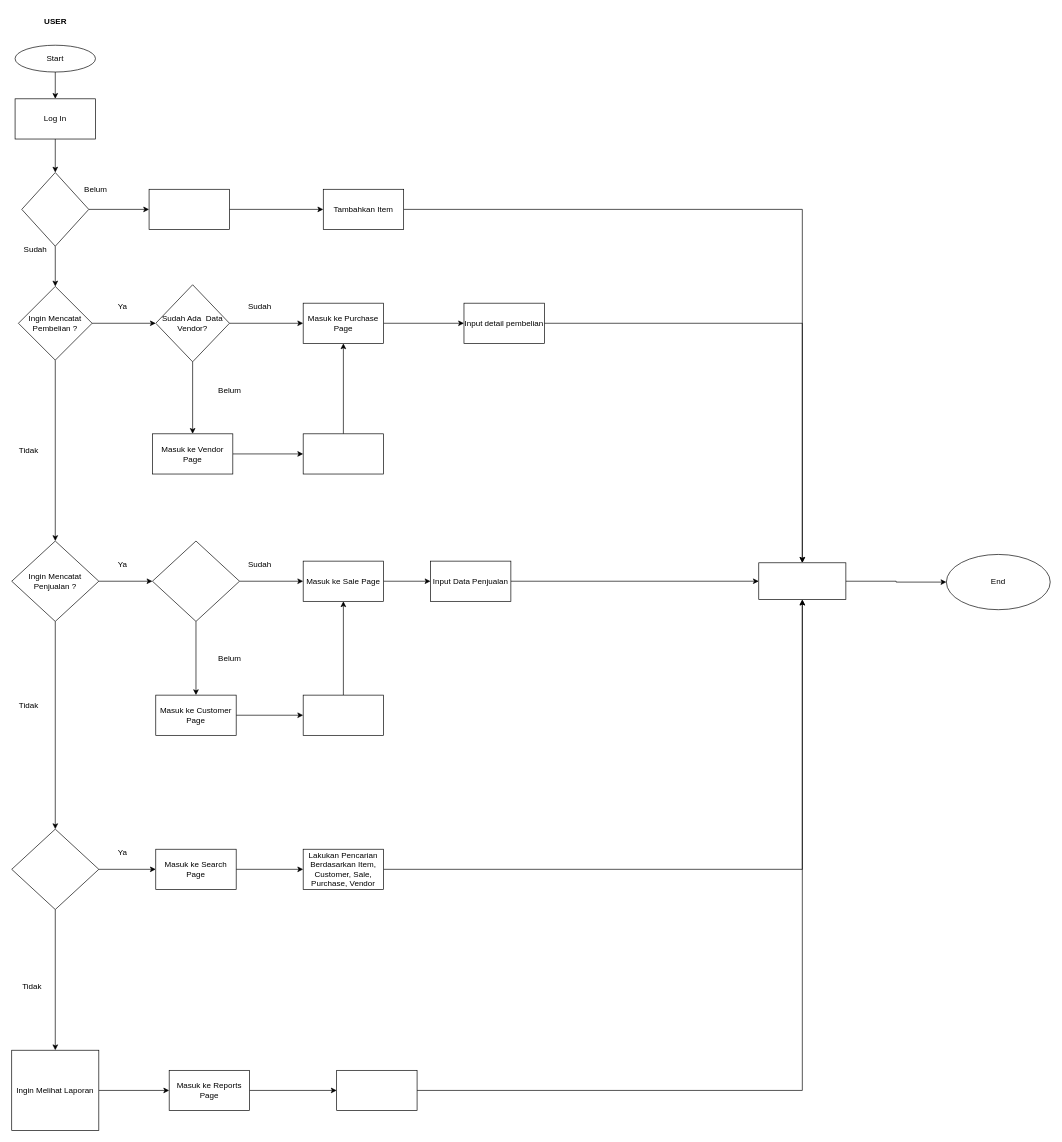
Some shapes in this 1062 by 1142 pixel diagram are drawn without their labels. Here are the shapes that lost their labels. From the top down, the box of each, then its label:
(21, 172, 89, 246): Sudah Ada Data Produk?
(148, 189, 229, 229): Masuk Ke Item Page
(303, 433, 384, 474): Input Detail Data Vendor
(152, 540, 240, 621): Sudah Ada Data Customer?
(758, 562, 846, 600): Log Out
(303, 694, 384, 735): Input Data Customer
(11, 828, 99, 910): Ingin Melakukan Pencarian?
(336, 1070, 417, 1111): Lihat Laporan Berdasarkan Item, Customer, Sale, Purchase, Vendor
